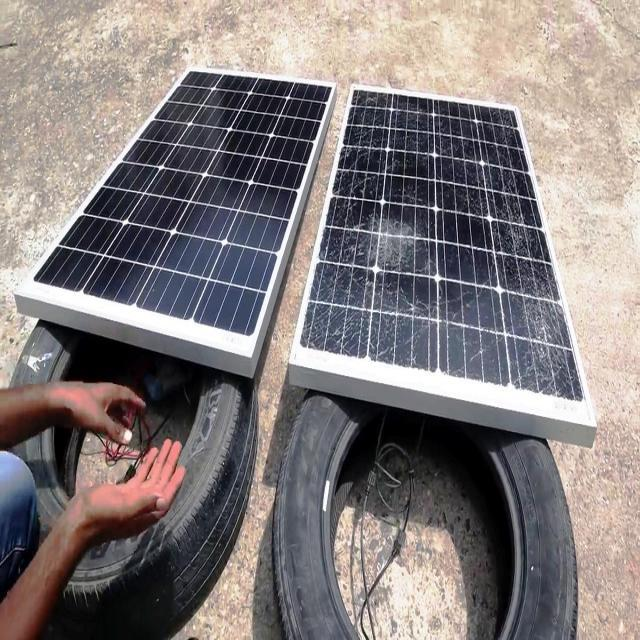faulty: (306, 77, 590, 416)
no faulty: (28, 62, 336, 352)
